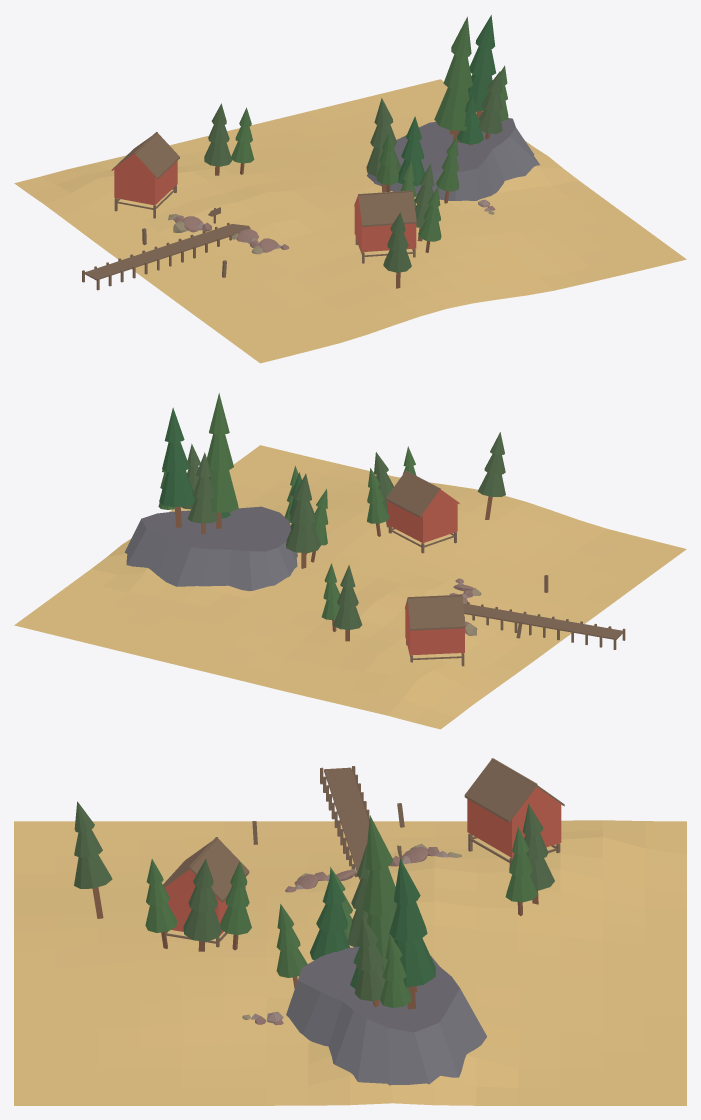
Rendered from spawnisland.glb.
3 views of the same model, one above another, from view 1: azimuth 30°, elevation 25°; view 2: azimuth 150°, elevation 25°; view 3: azimuth 270°, elevation 25° (orthographic). The views are drawn at different scales.
Parts seen in each view (by area): view 1: Plane.021, Cylinder.038, Cube.035, Cube.031, Cone.012, Cube.027, Cone.011, Cone.016, Cone.035, Cone.019, Cone.017, Cone.013 (+7 smaller); view 2: Plane.021, Cylinder.038, Cube.031, Cube.035, Cone.012, Cone.011, Cube.027, Cone.016, Cone.010, Cone.035, Cone.019, Cone.034 (+4 smaller); view 3: Plane.021, Cylinder.038, Cube.035, Cube.031, Cone.011, Cone.012, Cube.027, Cone.019, Cone.033, Cone.017, Cone.013, Cone.035 (+7 smaller).
Part boxes in pixels (left/top/right/bottom): Plane.021: left=14, top=79, right=686, bottom=363; Cylinder.038: left=367, top=118, right=539, bottom=200; Cube.035: left=111, top=132, right=179, bottom=205; Cube.031: left=354, top=190, right=416, bottom=252; Cone.012: left=434, top=16, right=472, bottom=130; Cube.027: left=84, top=224, right=250, bottom=280; Cone.011: left=468, top=15, right=495, bottom=110; Cone.016: left=366, top=98, right=401, bottom=176; Cone.035: left=204, top=103, right=232, bottom=166; Cone.019: left=383, top=212, right=411, bottom=272; Cone.017: left=398, top=116, right=424, bottom=186; Cone.013: left=478, top=71, right=502, bottom=133; Plane.021: left=14, top=445, right=686, bottom=729; Cylinder.038: left=124, top=506, right=297, bottom=591; Cube.031: left=386, top=470, right=459, bottom=542; Cube.035: left=405, top=594, right=465, bottom=655; Cone.012: left=207, top=393, right=238, bottom=512; Cone.011: left=159, top=407, right=195, bottom=506; Cube.027: left=463, top=603, right=623, bottom=639; Cone.016: left=286, top=473, right=320, bottom=553; Cone.010: left=187, top=452, right=218, bottom=523; Cone.035: left=334, top=565, right=362, bottom=629; Cone.019: left=477, top=432, right=505, bottom=496; Cone.034: left=367, top=468, right=389, bottom=523; Plane.021: left=14, top=820, right=686, bottom=1105; Cylinder.038: left=286, top=946, right=486, bottom=1085; Cube.035: left=464, top=758, right=564, bottom=857; Cube.031: left=163, top=837, right=249, bottom=936; Cone.011: left=389, top=859, right=435, bottom=987; Cone.012: left=362, top=815, right=396, bottom=970; Cube.027: left=324, top=767, right=369, bottom=880; Cone.019: left=74, top=801, right=112, bottom=888; Cone.033: left=183, top=859, right=222, bottom=941; Cone.017: left=310, top=871, right=349, bottom=960; Cone.013: left=354, top=917, right=385, bottom=1001; Cone.035: left=522, top=803, right=554, bottom=890.
Size of the model in its own units: 7.37 by 2.51 by 6.55.
